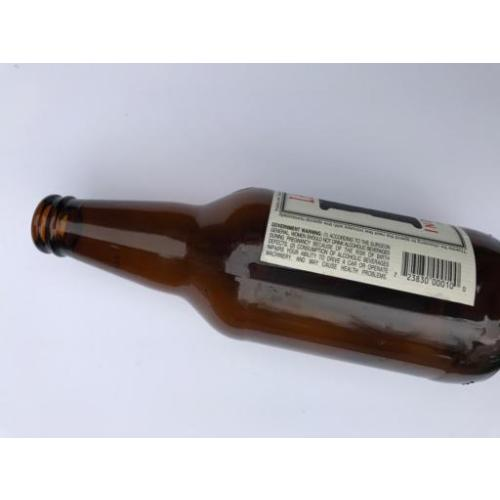glass: (39, 189, 500, 385)
